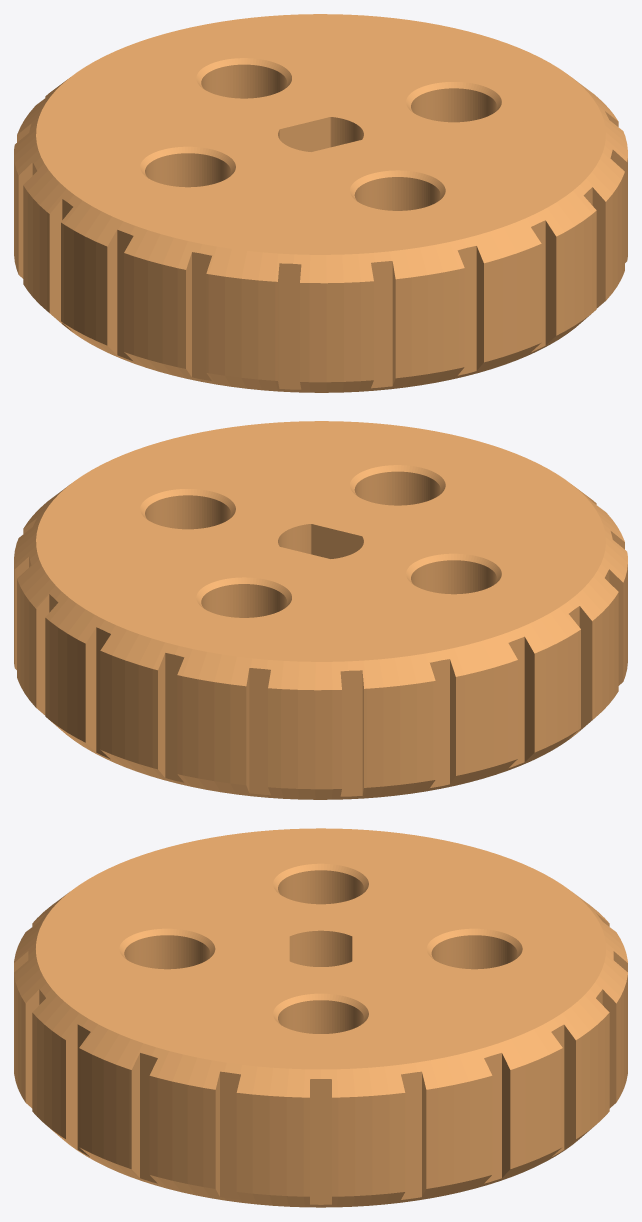
The model's file is kit-wheel-giant.glb.
3 views of the same model, one above another, from view 1: azimuth 30°, elevation 25°; view 2: azimuth 150°, elevation 25°; view 3: azimuth 270°, elevation 25° (orthographic).
Visible parts, largest first — view 1: kit-wheel-giant; view 2: kit-wheel-giant; view 3: kit-wheel-giant.
Part boxes in pixels (x1,y1,x2,y2): kit-wheel-giant: (14, 14, 627, 392); kit-wheel-giant: (14, 421, 627, 799); kit-wheel-giant: (14, 828, 627, 1207).
Size of the model in its own units: 0.0499 by 0.0123 by 0.0499.
